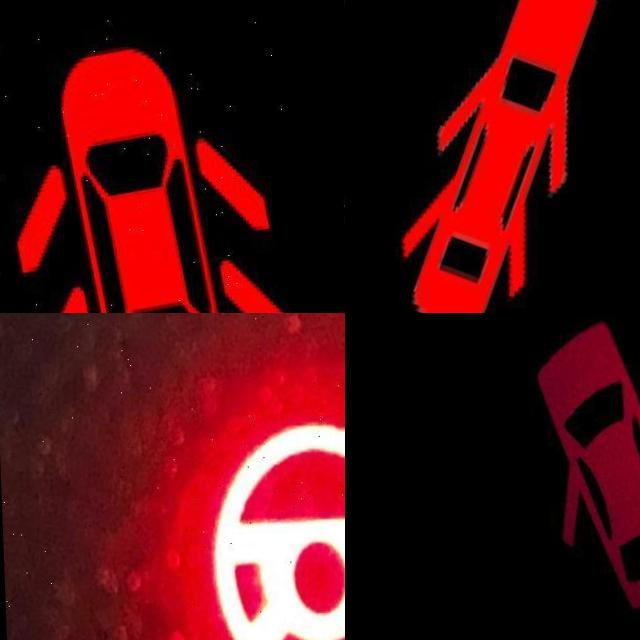Electronic Power Steering Warning: (210, 419, 345, 640)
